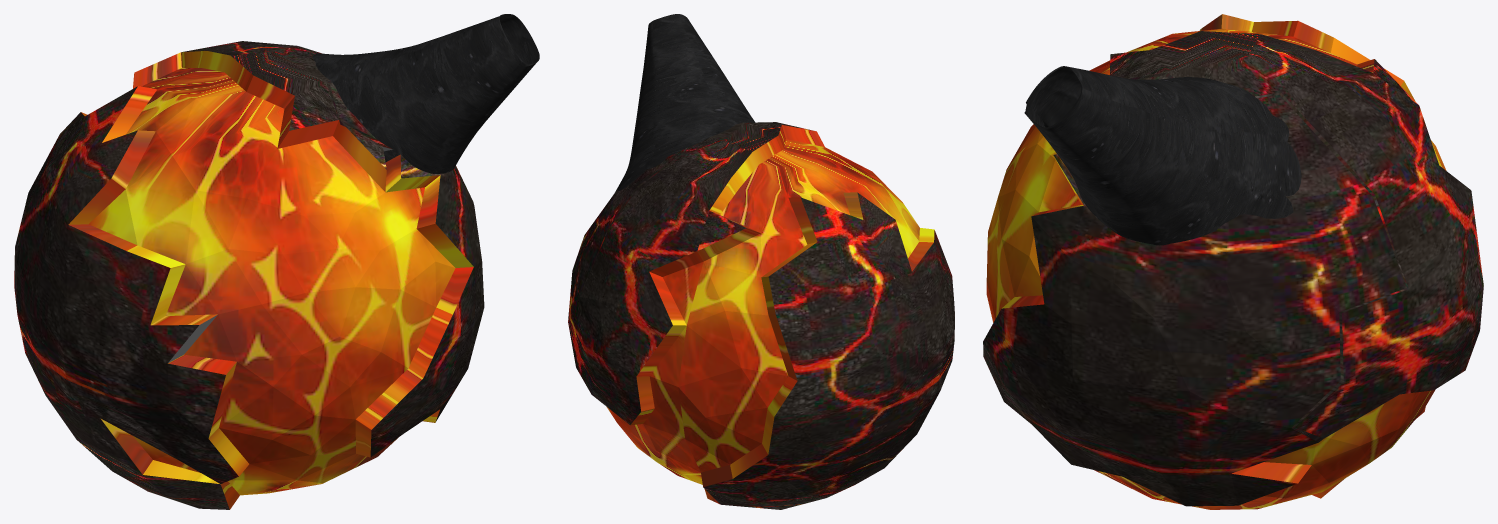
The model's file is fire.fbx.
The picture shows the model from 3 angles, left to right: view 1: azimuth 30°, elevation 25°; view 2: azimuth 150°, elevation 25°; view 3: azimuth 270°, elevation 25°; orthographic projection. The views are drawn at different scales.
Parts seen in each view (by area): view 1: polySurface94; view 2: polySurface94; view 3: polySurface94.
Part boxes in pixels (bbox=[...]): polySurface94: bbox=[14, 14, 539, 509]; polySurface94: bbox=[568, 14, 954, 509]; polySurface94: bbox=[983, 14, 1483, 509].
Bounding box in the file's own units: 21.64 × 23.86 × 20.6.
Materials: 4 (3 with a texture image).
